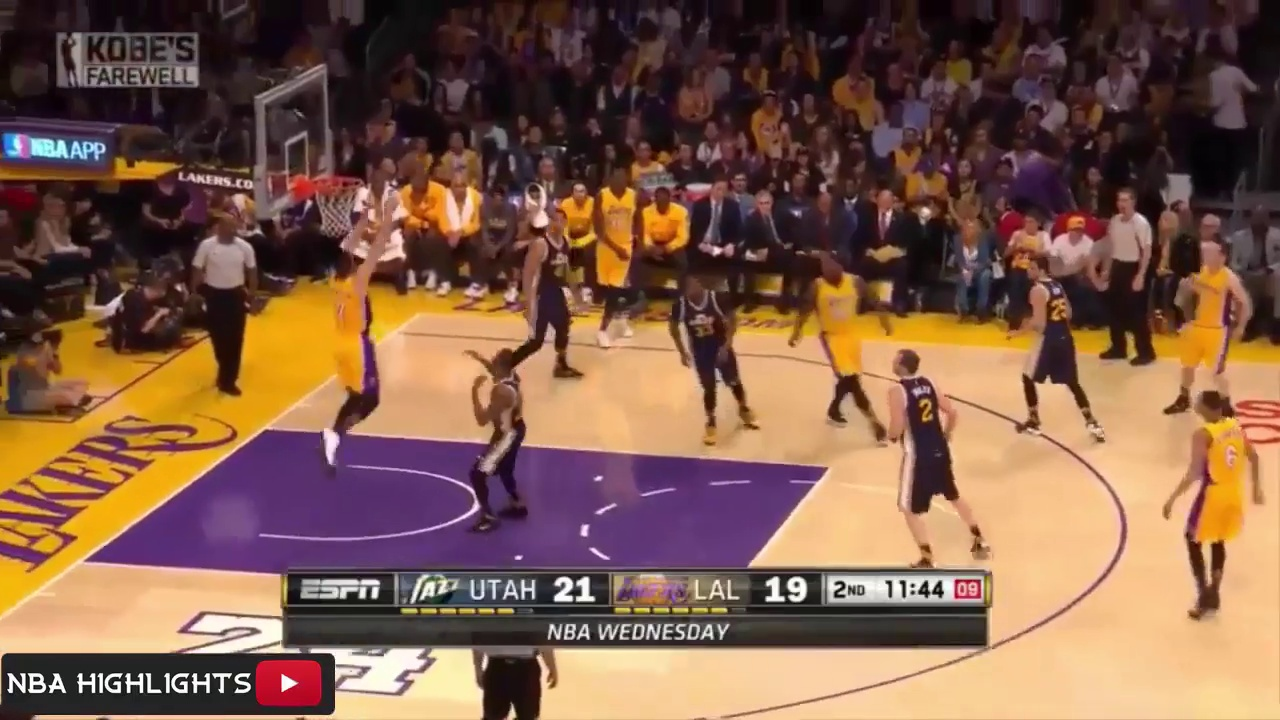jazz: (885, 348, 992, 567), (1015, 255, 1107, 447), (669, 275, 767, 437), (466, 348, 531, 532), (508, 209, 576, 380)
lakers: (318, 176, 405, 470), (1166, 392, 1266, 623), (791, 249, 893, 445), (1163, 240, 1252, 413), (598, 159, 644, 350)
